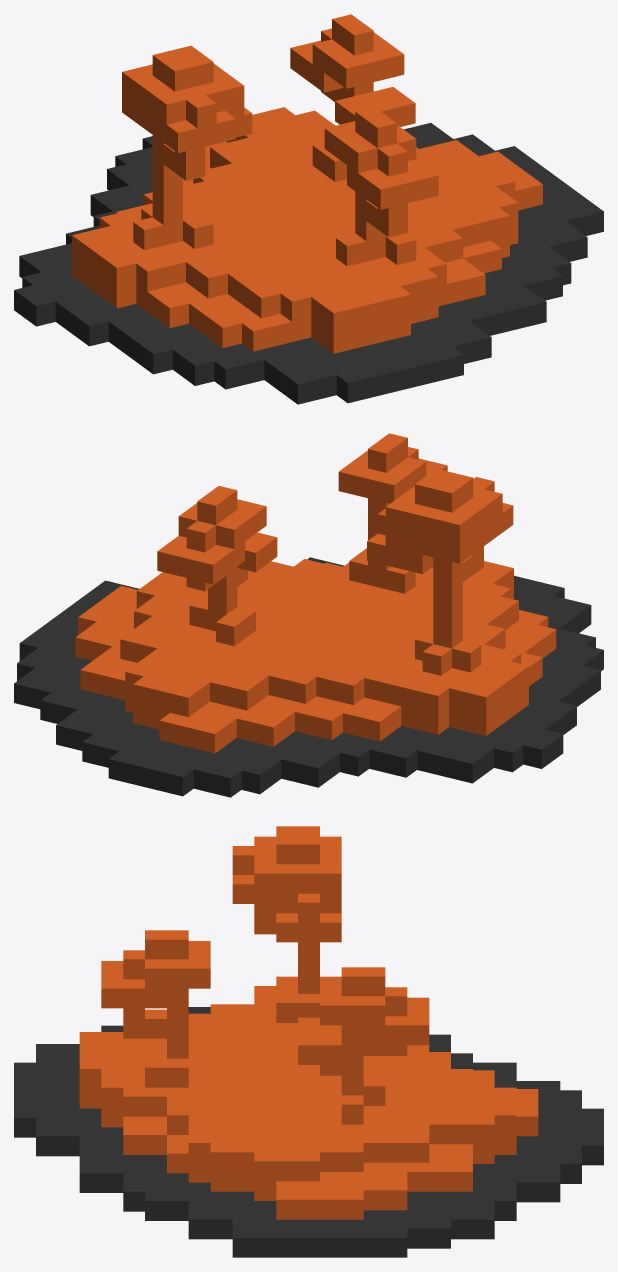
File: Isl_Lumber.fbx
The picture shows the model from 3 angles, top to bottom: view 1: azimuth 30°, elevation 25°; view 2: azimuth 150°, elevation 25°; view 3: azimuth 270°, elevation 25°; orthographic projection. The views are drawn at different scales.
Visible parts, largest first — view 1: New_World_(3)__-82_-64_-38_to_-54_319_-10.002, New_World_(3)__-82_-64_-38_to_-54_319_-10.001, New_World_(3)__-82_-64_-38_to_-54_319_-10.005, New_World_(3)__-82_-64_-38_to_-54_319_-10.003, New_World_(3)__-82_-64_-38_to_-54_319_-10, New_World_(3)__-82_-64_-38_to_-54_319_-10.004; view 2: New_World_(3)__-82_-64_-38_to_-54_319_-10.002, New_World_(3)__-82_-64_-38_to_-54_319_-10.001, New_World_(3)__-82_-64_-38_to_-54_319_-10.003, New_World_(3)__-82_-64_-38_to_-54_319_-10.005, New_World_(3)__-82_-64_-38_to_-54_319_-10, New_World_(3)__-82_-64_-38_to_-54_319_-10.004; view 3: New_World_(3)__-82_-64_-38_to_-54_319_-10.002, New_World_(3)__-82_-64_-38_to_-54_319_-10.001, New_World_(3)__-82_-64_-38_to_-54_319_-10.005, New_World_(3)__-82_-64_-38_to_-54_319_-10.003, New_World_(3)__-82_-64_-38_to_-54_319_-10, New_World_(3)__-82_-64_-38_to_-54_319_-10.004.
Boxes of the visible parts, bbox=[...] form: New_World_(3)__-82_-64_-38_to_-54_319_-10.002: bbox=[14, 123, 603, 404]; New_World_(3)__-82_-64_-38_to_-54_319_-10.001: bbox=[72, 107, 517, 313]; New_World_(3)__-82_-64_-38_to_-54_319_-10.005: bbox=[122, 14, 438, 209]; New_World_(3)__-82_-64_-38_to_-54_319_-10.003: bbox=[72, 135, 542, 351]; New_World_(3)__-82_-64_-38_to_-54_319_-10: bbox=[133, 82, 416, 270]; New_World_(3)__-82_-64_-38_to_-54_319_-10.004: bbox=[72, 223, 518, 353]; New_World_(3)__-82_-64_-38_to_-54_319_-10.002: bbox=[14, 557, 603, 797]; New_World_(3)__-82_-64_-38_to_-54_319_-10.001: bbox=[121, 559, 528, 697]; New_World_(3)__-82_-64_-38_to_-54_319_-10.003: bbox=[75, 562, 556, 753]; New_World_(3)__-82_-64_-38_to_-54_319_-10.005: bbox=[157, 433, 513, 584]; New_World_(3)__-82_-64_-38_to_-54_319_-10: bbox=[186, 498, 491, 675]; New_World_(3)__-82_-64_-38_to_-54_319_-10.004: bbox=[125, 588, 528, 735]; New_World_(3)__-82_-64_-38_to_-54_319_-10.002: bbox=[14, 1007, 603, 1257]; New_World_(3)__-82_-64_-38_to_-54_319_-10.001: bbox=[79, 976, 516, 1161]; New_World_(3)__-82_-64_-38_to_-54_319_-10.005: bbox=[101, 826, 429, 1064]; New_World_(3)__-82_-64_-38_to_-54_319_-10.003: bbox=[79, 1045, 538, 1219]; New_World_(3)__-82_-64_-38_to_-54_319_-10: bbox=[123, 913, 407, 1124]; New_World_(3)__-82_-64_-38_to_-54_319_-10.004: bbox=[79, 1089, 516, 1200].
Bounding box in the file's own units: 2700 × 1200 × 2700.
